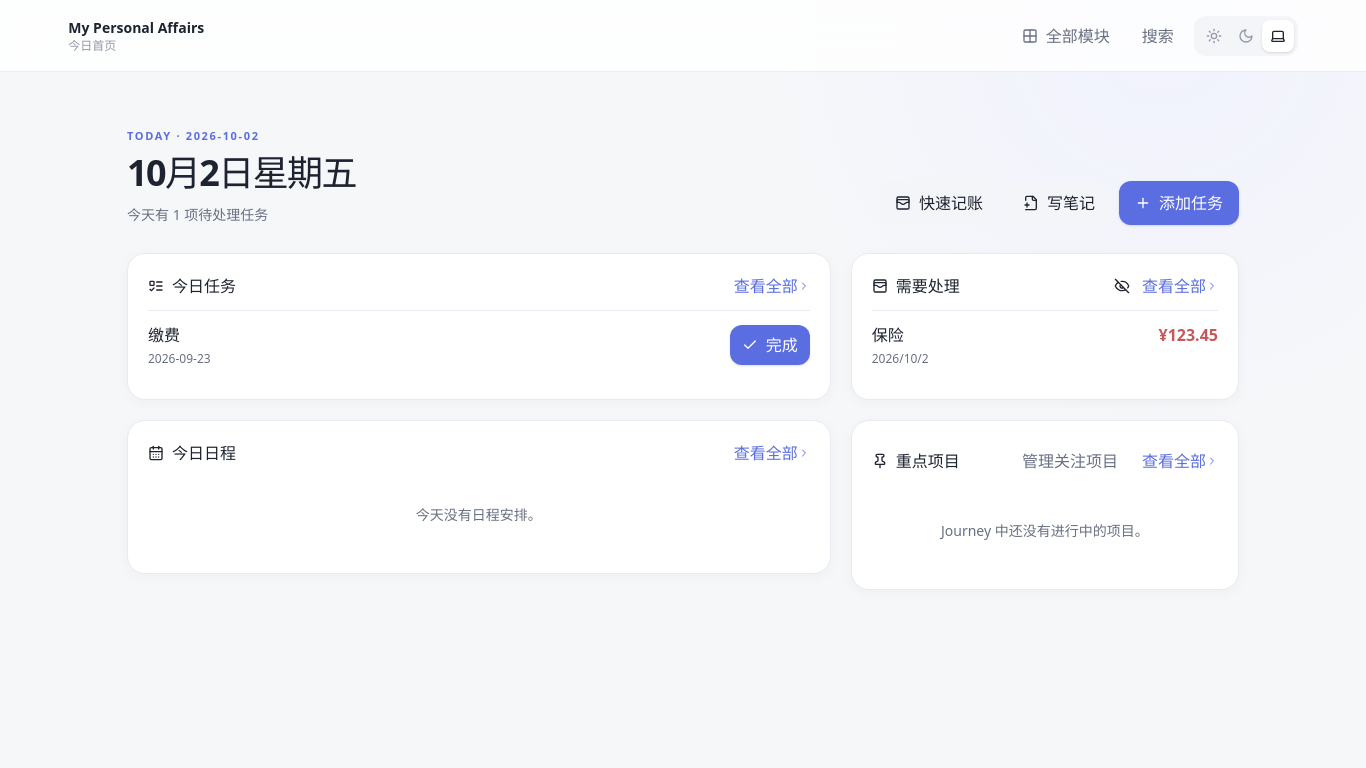
Test: hides every displayed amount when privacy mode is enabled
Check: the text "¥123.45" is shown, box x1=1158 y1=324 x2=1218 y2=346
Click the button named "隐藏金额": (1122, 286) x1=1114 y1=278 x2=1130 y2=294
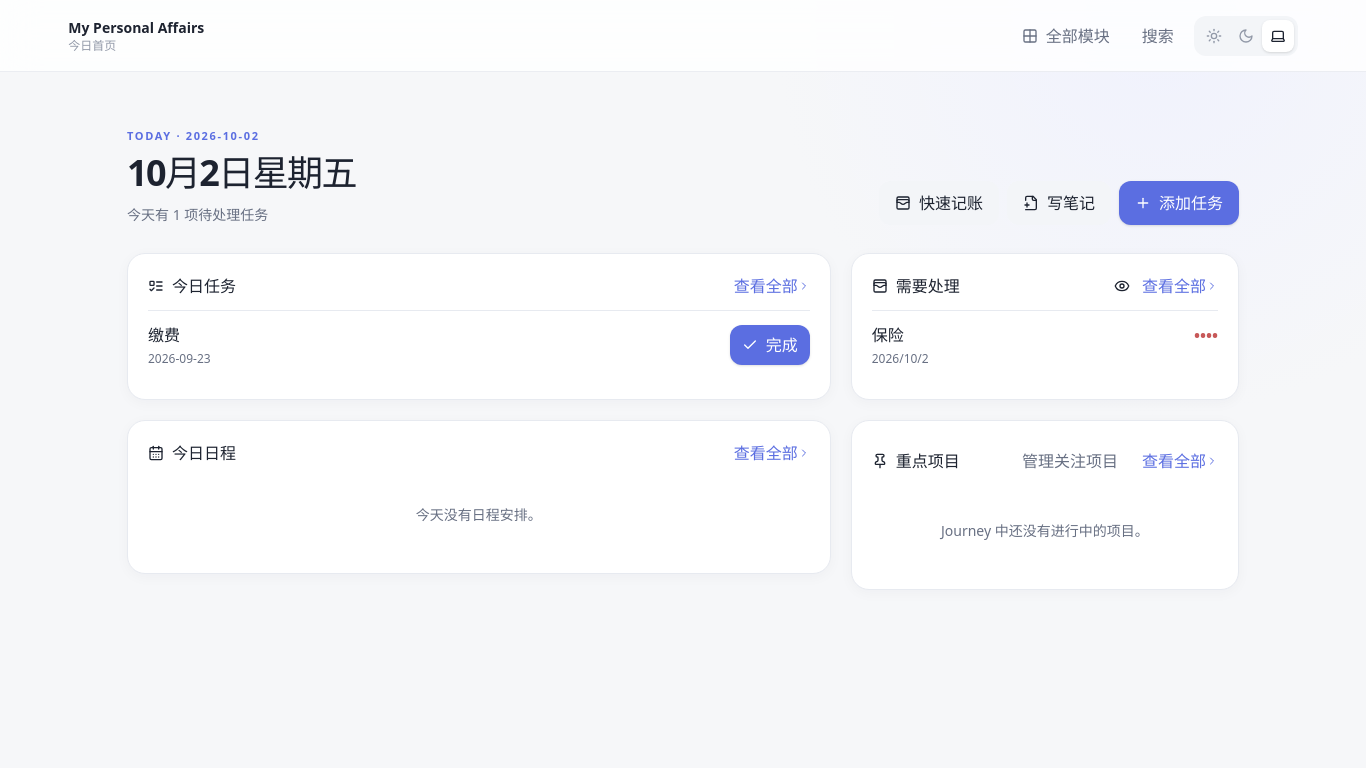
Check: the text "¥123.45" is gone
Check: the text "••••" is shown, box x1=1194 y1=324 x2=1218 y2=346
